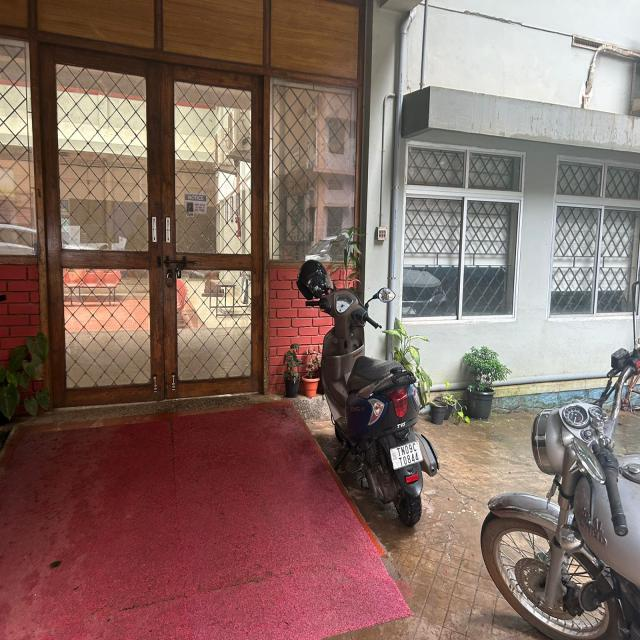Door ahead at: (42, 43, 257, 394)
motorcycle ahead at: (301, 252, 440, 520)
